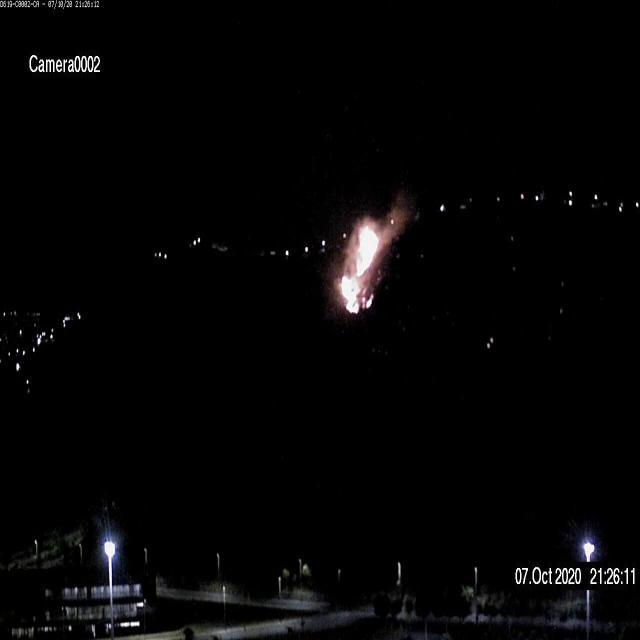Fire: (339, 212, 383, 316)
Smoke: (322, 177, 416, 316)
